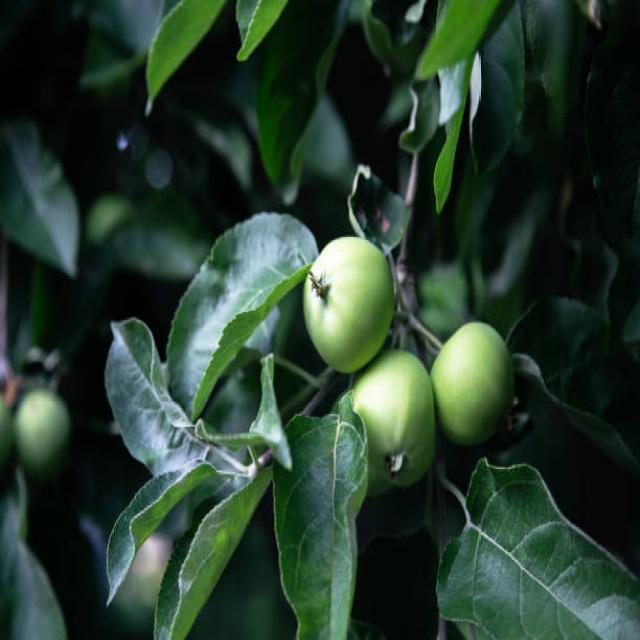Unripe: (302, 235, 394, 372), (432, 322, 516, 446)
